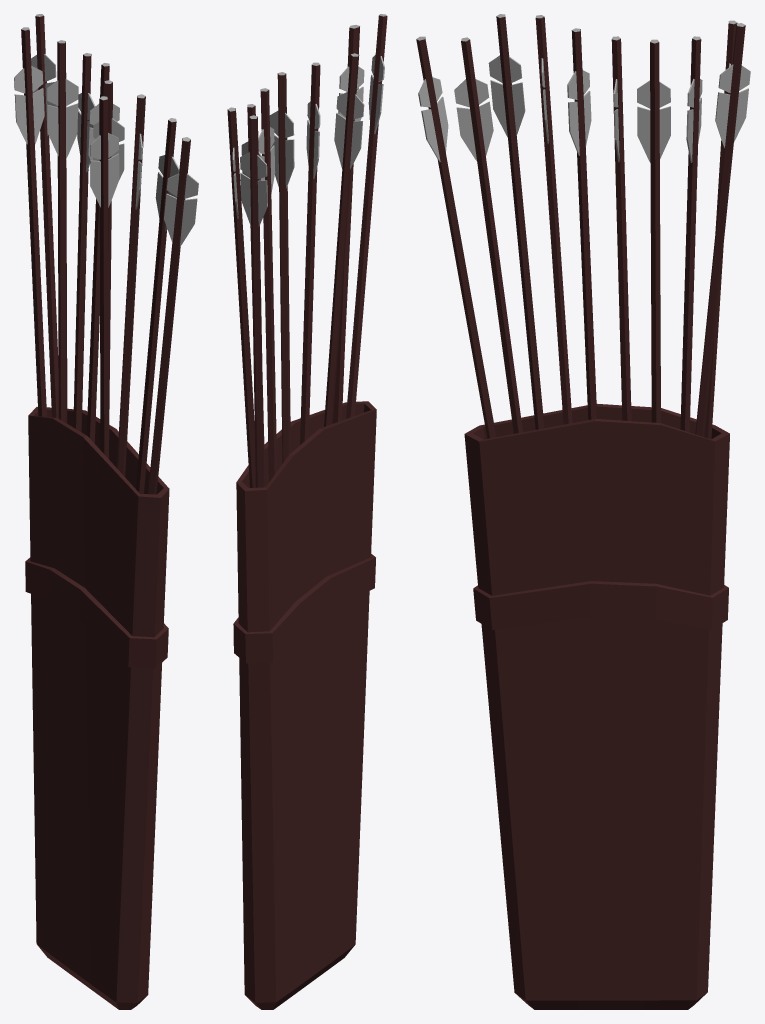
3 renders of one model, left to right at view 1: azimuth 30°, elevation 25°; view 2: azimuth 150°, elevation 25°; view 3: azimuth 270°, elevation 25°, orthographic. The views are drawn at different scales.
Visible parts, largest first — view 1: pCube2; view 2: pCube2; view 3: pCube2.
Boxes of the visible parts, x1,y1,x2,y2 form: pCube2: [14, 14, 198, 1009]; pCube2: [227, 14, 387, 1009]; pCube2: [416, 14, 750, 1009].
Bounding box in the file's own units: 7.77 × 111 × 33.93.
